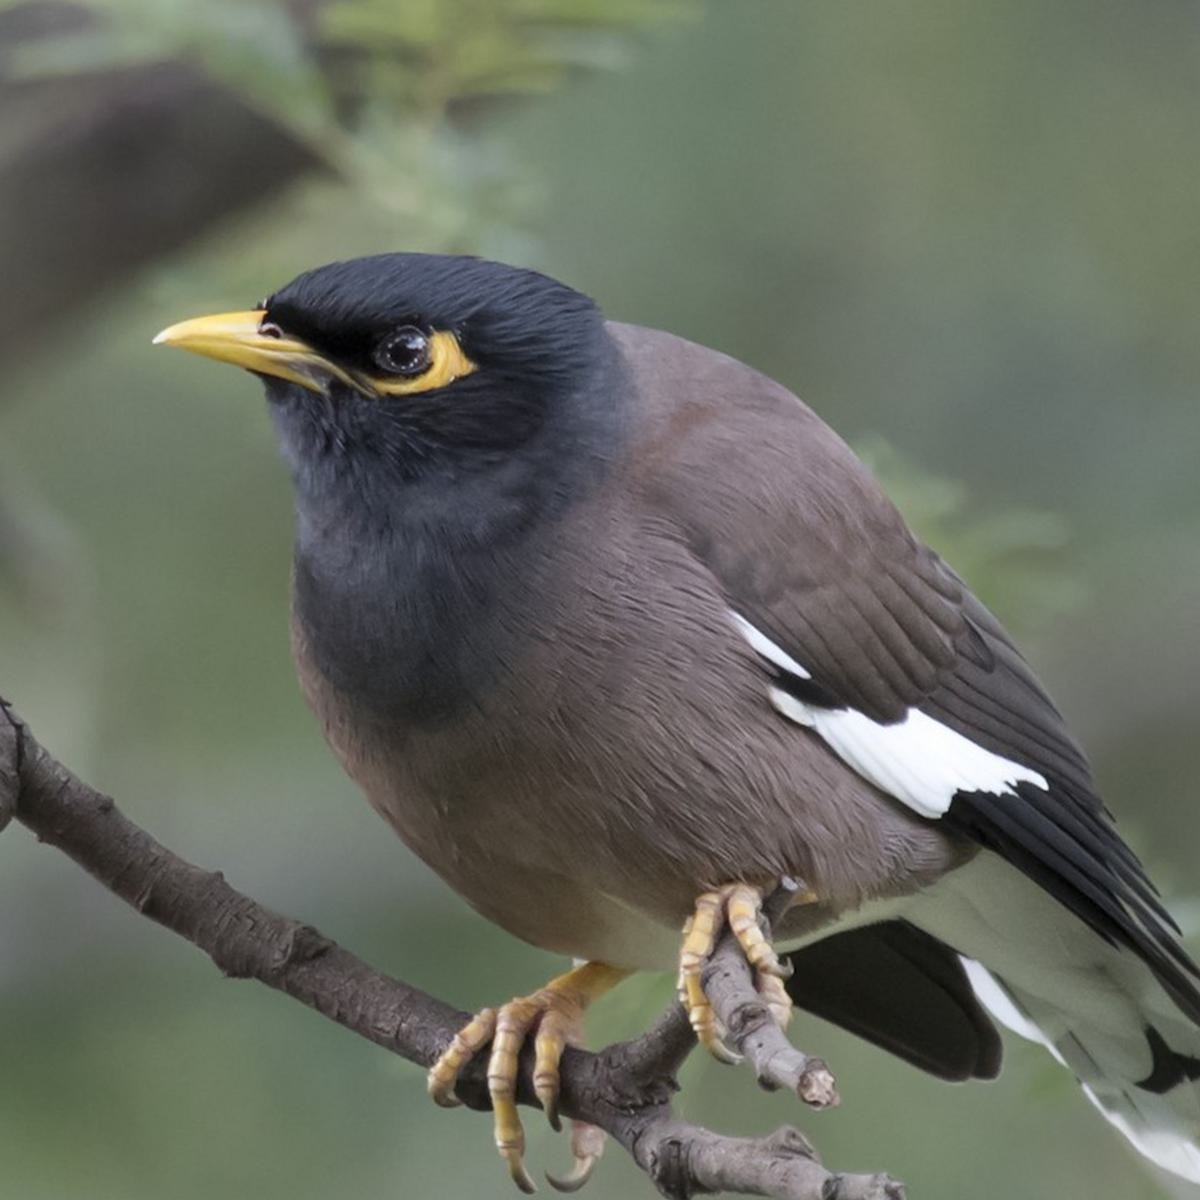myna: (167, 205, 974, 1091)
